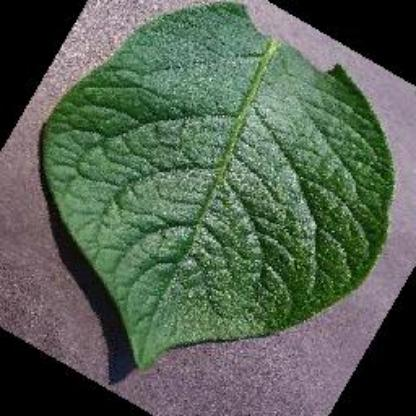Healthy-plant: (40, 0, 404, 374)
